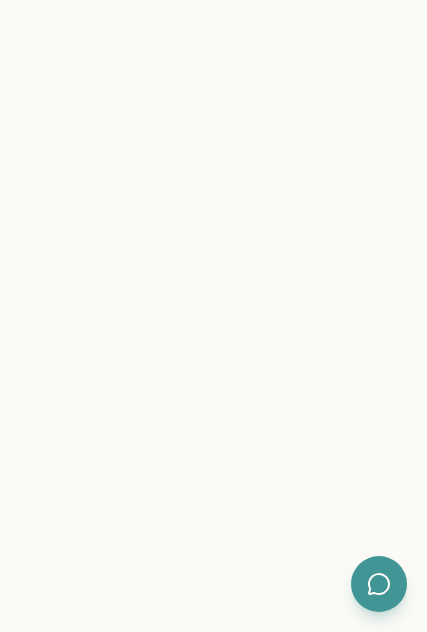
Test case: PublicChatbot › sends a message and shows reply on success
The width and height of the screenshot is (427, 632).
Open chatbot
Click the button at [379, 584], box [351, 556, 407, 612]
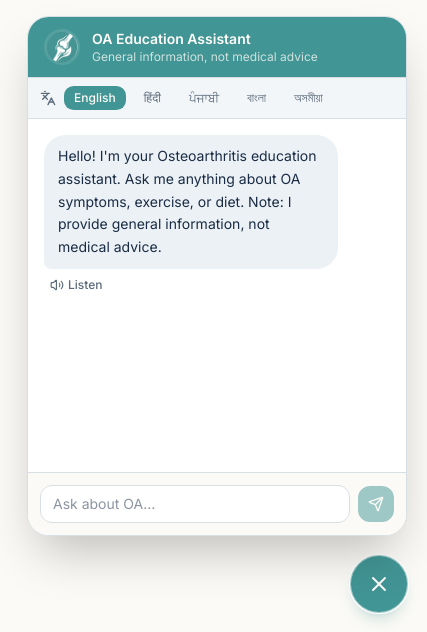
Result: the field is shown
Type and send
Type "What exercise is good for OA?" into the field at [195, 504], box [40, 485, 350, 523]
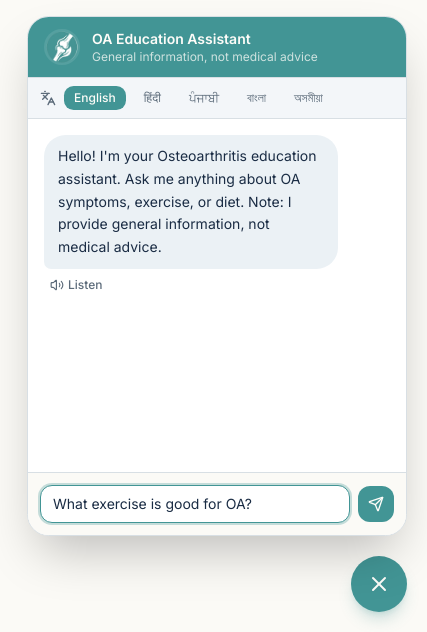
Find the send button (last button or button with aria-label containing 'send')
Click the button named "send" at [376, 504], box [358, 486, 394, 522]
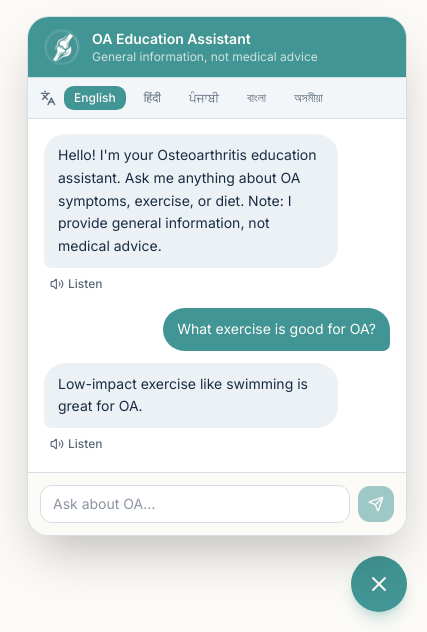
Result: the text "Low-impact exercise like swimming is great for OA." is shown at [58, 372, 324, 418]
